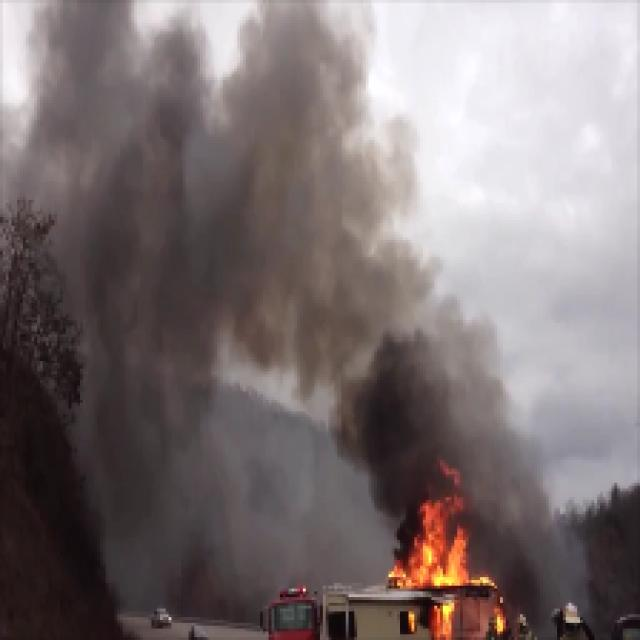fire: (396, 522, 462, 585)
smoke: (87, 121, 232, 334), (235, 146, 364, 351), (364, 342, 465, 490)
